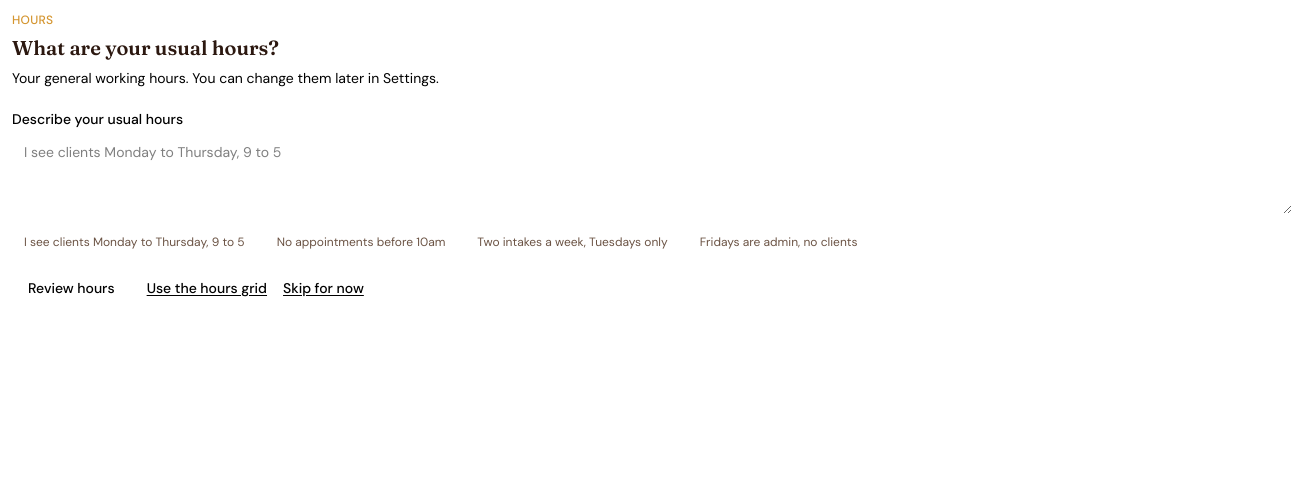
Test: CalendarHoursStep › offers to add a missing appointment type, then reads the sentence again
This screenshot has width=1304, height=484.
In the text box labelled "Describe your usual hours": (652, 174) left=12, top=134, right=1292, bottom=214, type "only two groups a week"
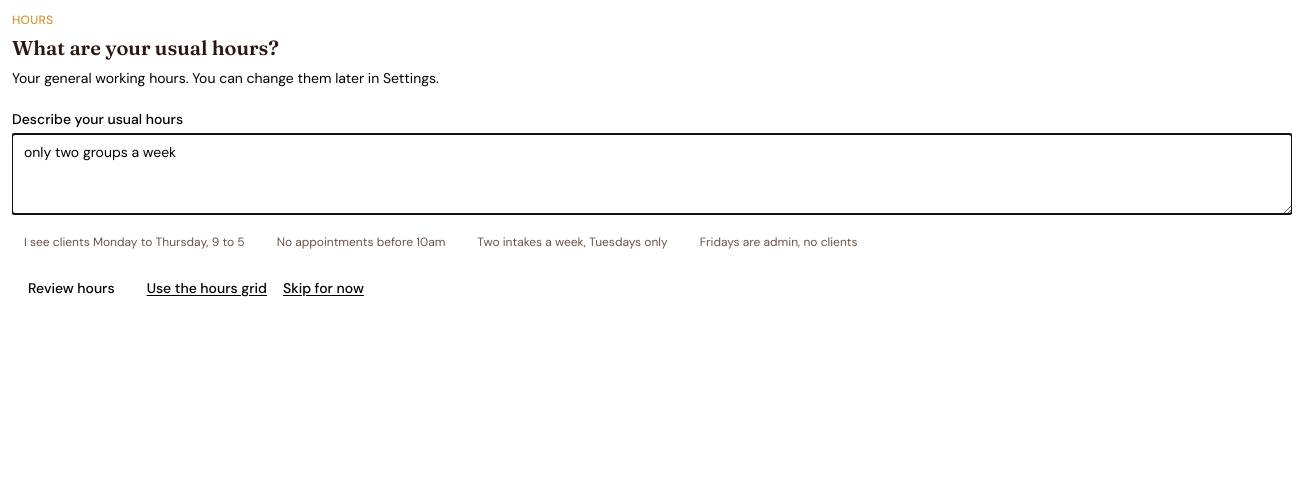
Click the button "Review hours": (71, 288) left=12, top=270, right=131, bottom=306
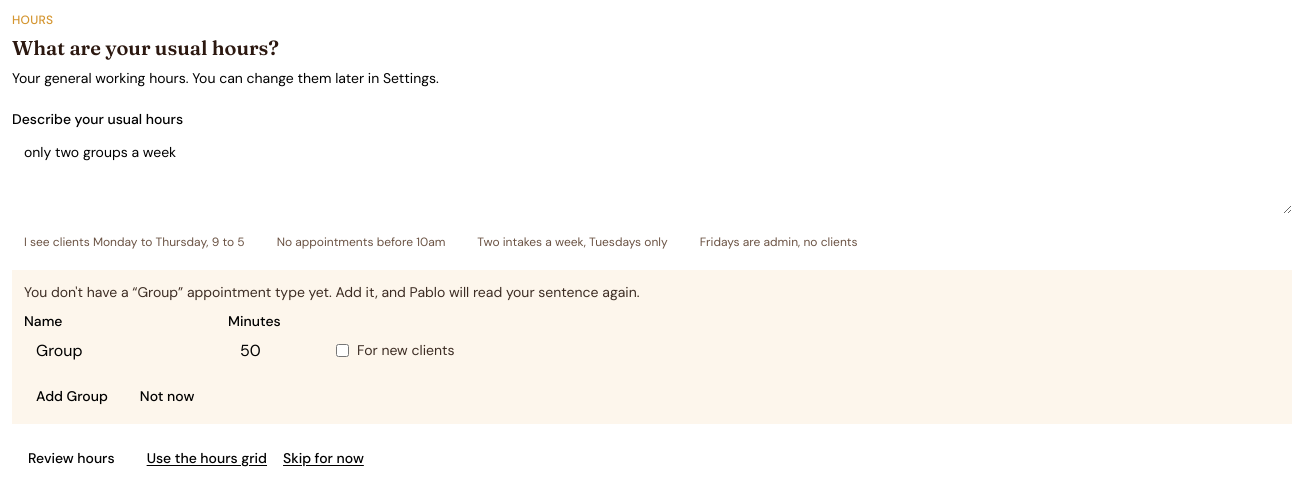
Click the button "Add Group": (72, 396) left=24, top=380, right=120, bottom=412
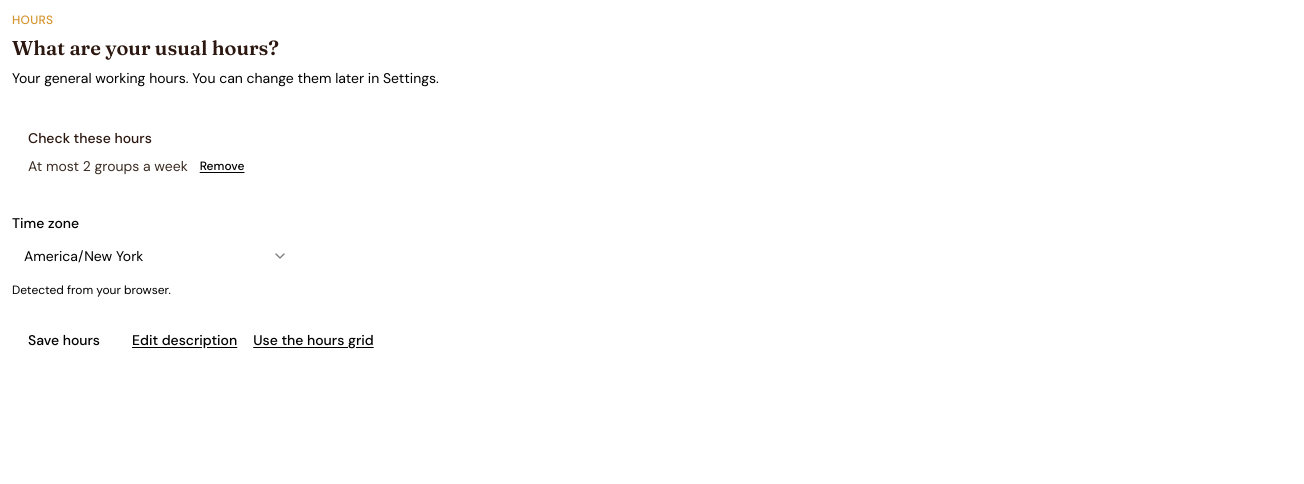
Result: the text "At most 2 groups a week" is shown at left=28, top=156, right=188, bottom=176
